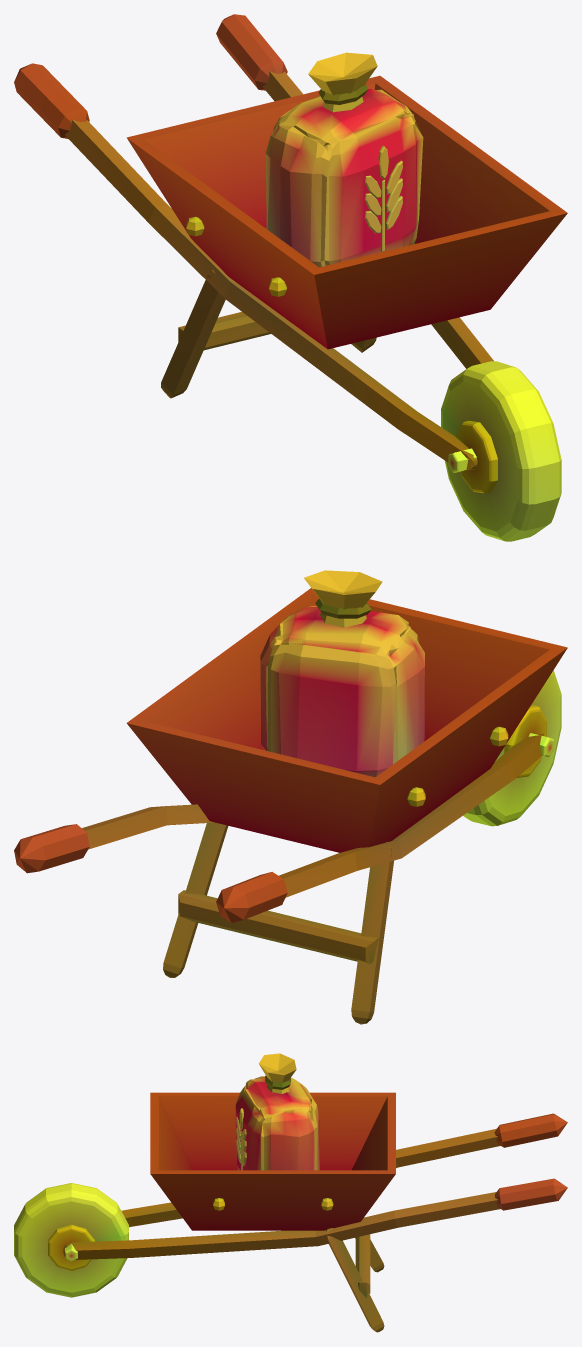
File: Farm_Wheelbarrow_Grain.fbx
3 renders of one model, top to bottom at view 1: azimuth 30°, elevation 25°; view 2: azimuth 150°, elevation 25°; view 3: azimuth 270°, elevation 25°, orthographic. The views are drawn at different scales.
Parts seen in each view (by area): view 1: Farm_Wheelbarrow_Grain; view 2: Farm_Wheelbarrow_Grain; view 3: Farm_Wheelbarrow_Grain.
Boxes of the visible parts, left/top/right/bottom form: Farm_Wheelbarrow_Grain: left=14, top=14, right=567, bottom=541; Farm_Wheelbarrow_Grain: left=14, top=570, right=567, bottom=1024; Farm_Wheelbarrow_Grain: left=14, top=1053, right=567, bottom=1332.
Bounding box in the file's own units: 0.78 × 1.07 × 2.25.
